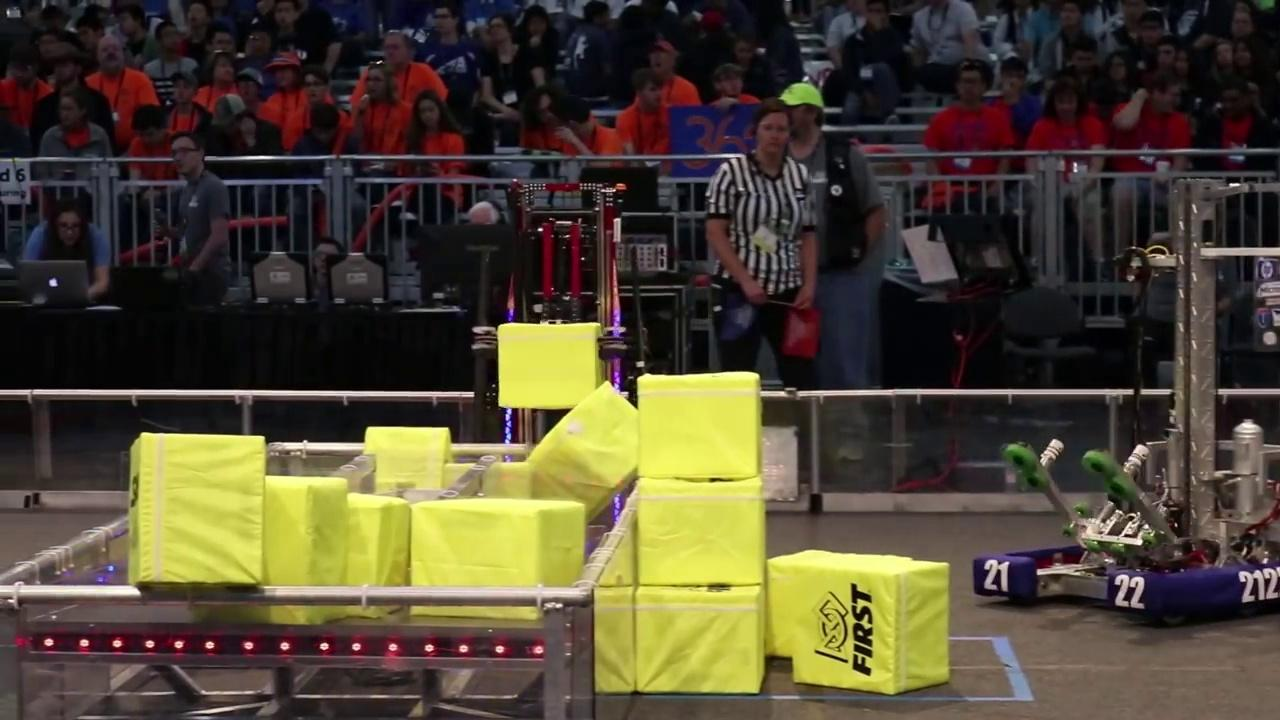robot: (970, 170, 1280, 627)
